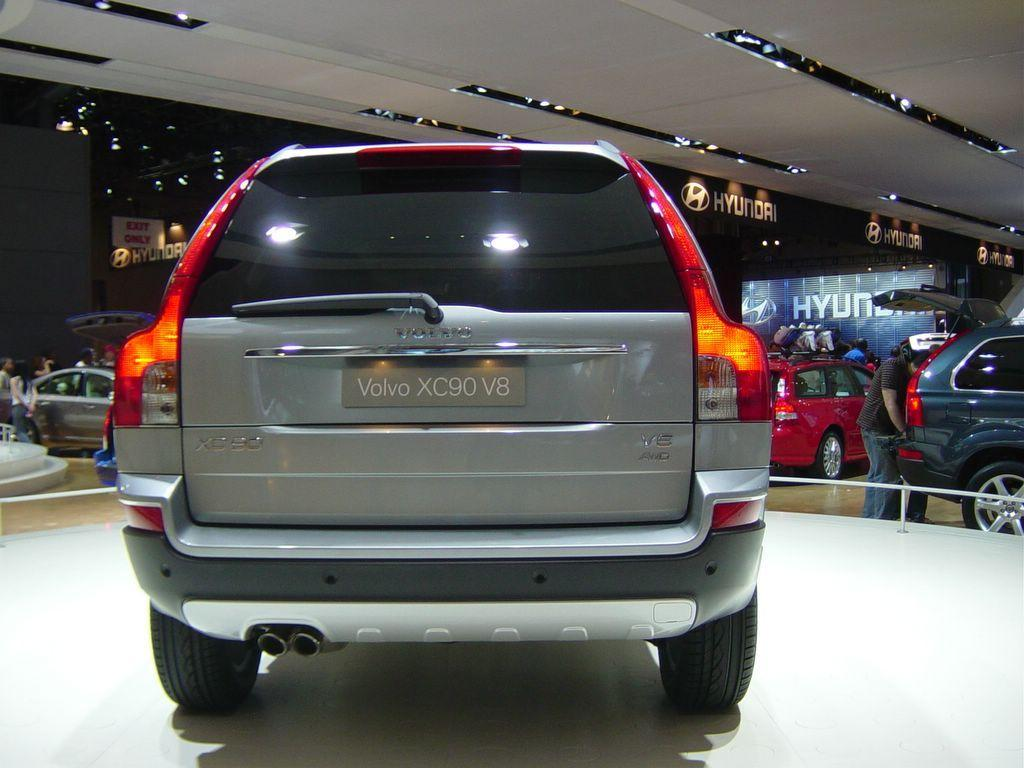volvo: (382, 316, 504, 350)
